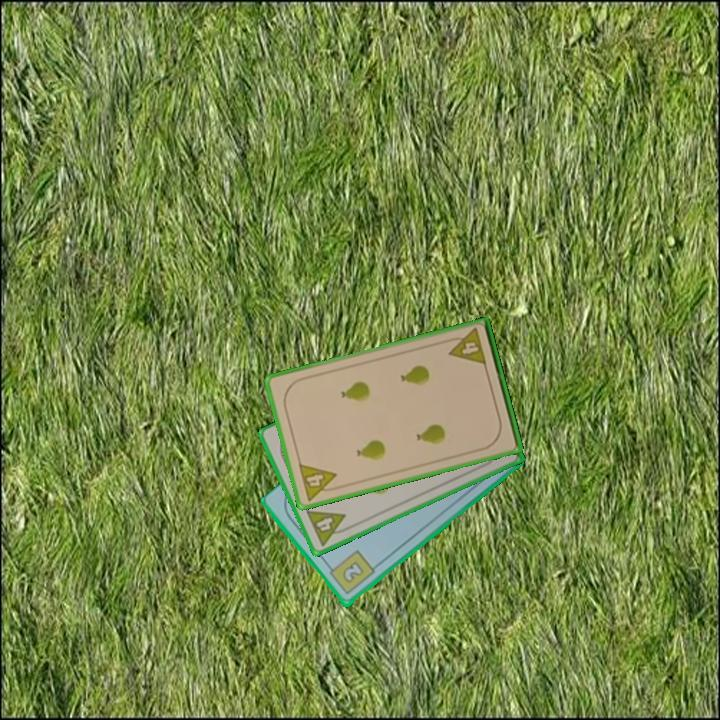2b: (323, 547, 378, 598)
4p: (302, 507, 354, 549), (295, 460, 343, 504), (443, 325, 489, 368)
